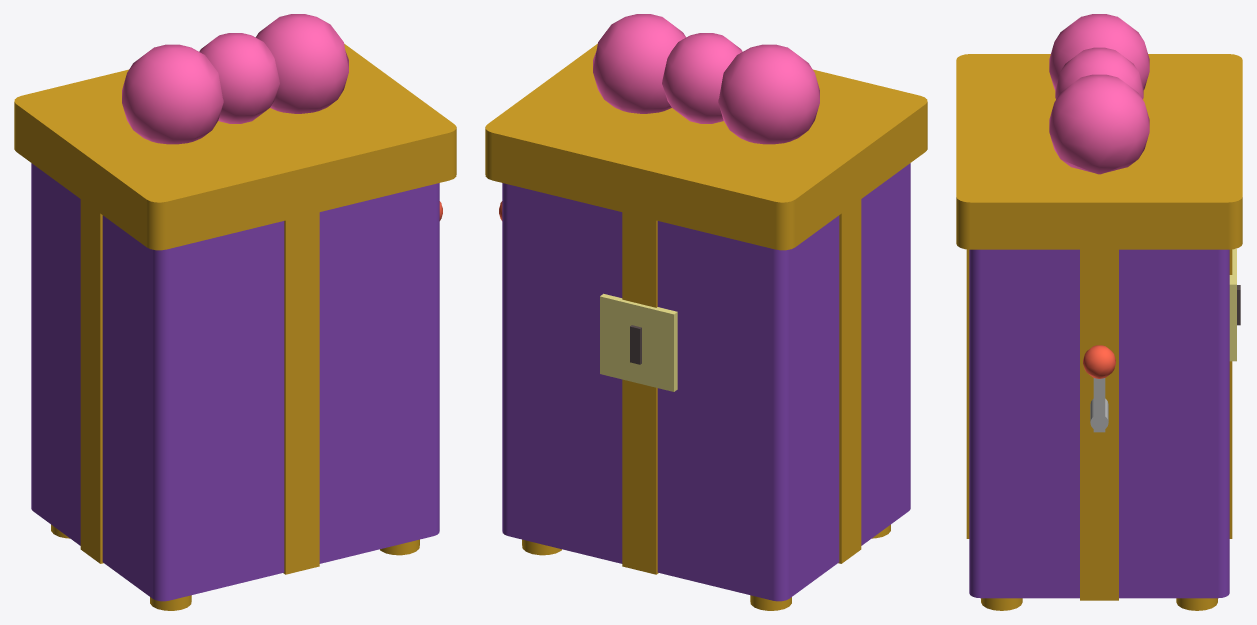
Rendered from music_box.glb.
3 renders of one model, left to right at view 1: azimuth 30°, elevation 25°; view 2: azimuth 150°, elevation 25°; view 3: azimuth 270°, elevation 25°, orthographic.
Size of the model in its own units: 0.631 by 0.845 by 0.44.
